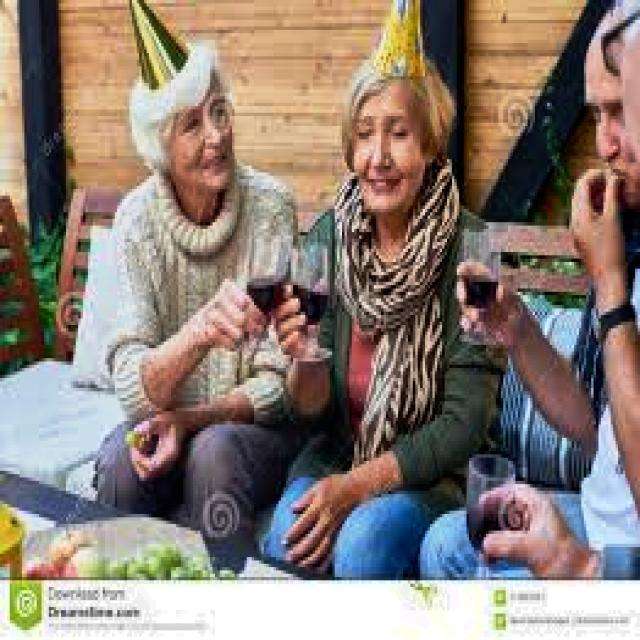TOPI: (112, 0, 190, 86), (367, 0, 432, 83)
